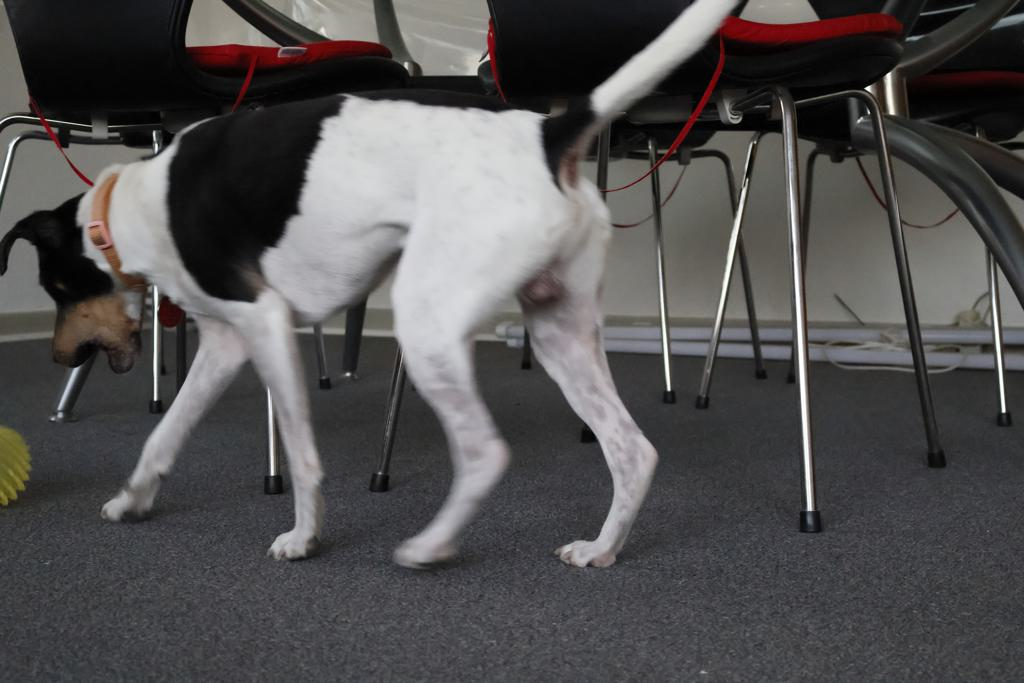Dog: (0, 0, 747, 587)
